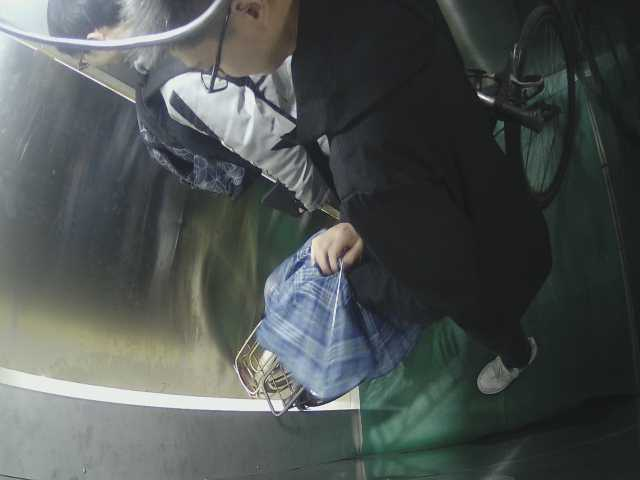bicycle: (229, 2, 581, 427)
person: (121, 7, 542, 379)
